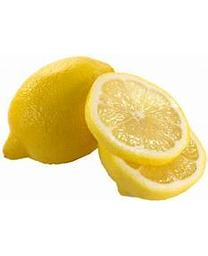lemon: (2, 55, 115, 165), (85, 72, 192, 165), (96, 137, 207, 199)
